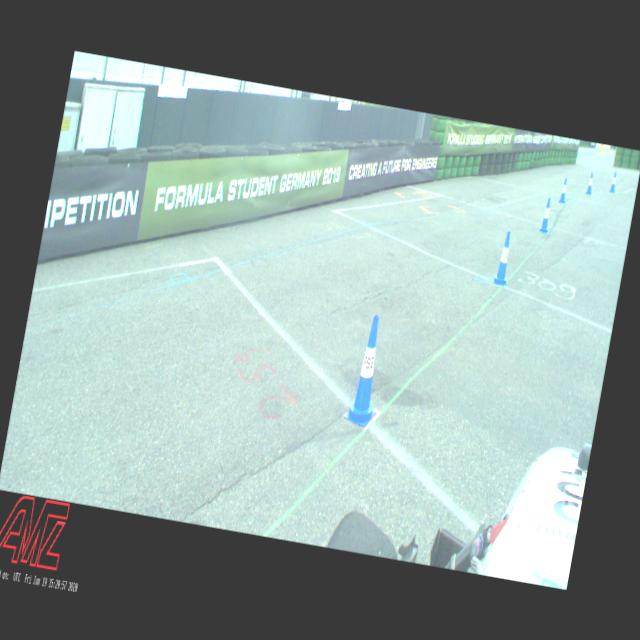blue_cone: (343, 312, 392, 428), (491, 230, 515, 286), (538, 197, 552, 233), (558, 177, 568, 203), (608, 171, 618, 193), (586, 172, 594, 195)
